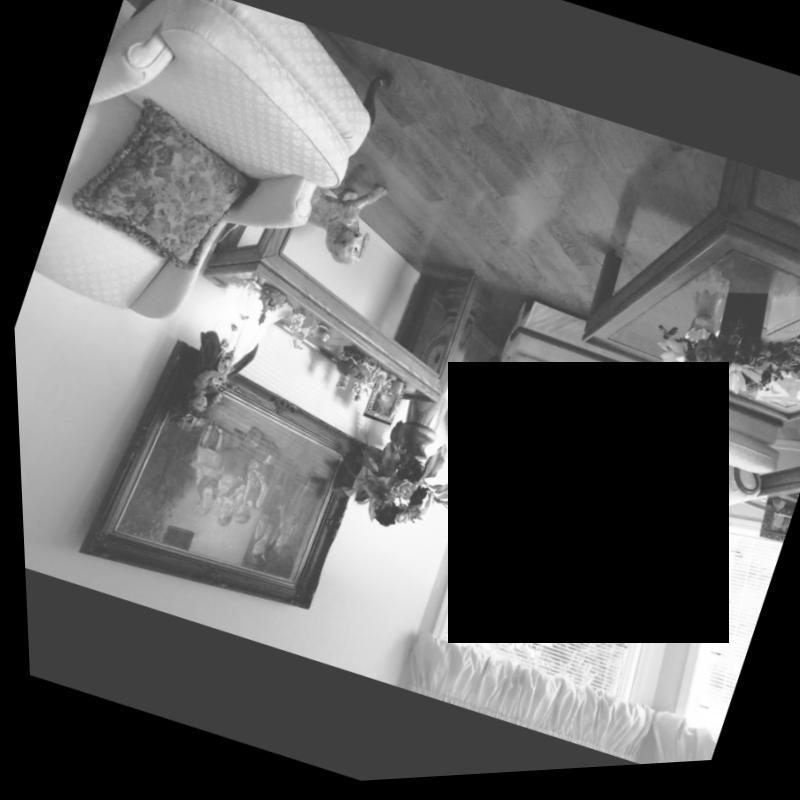pillow: (61, 91, 268, 290)
